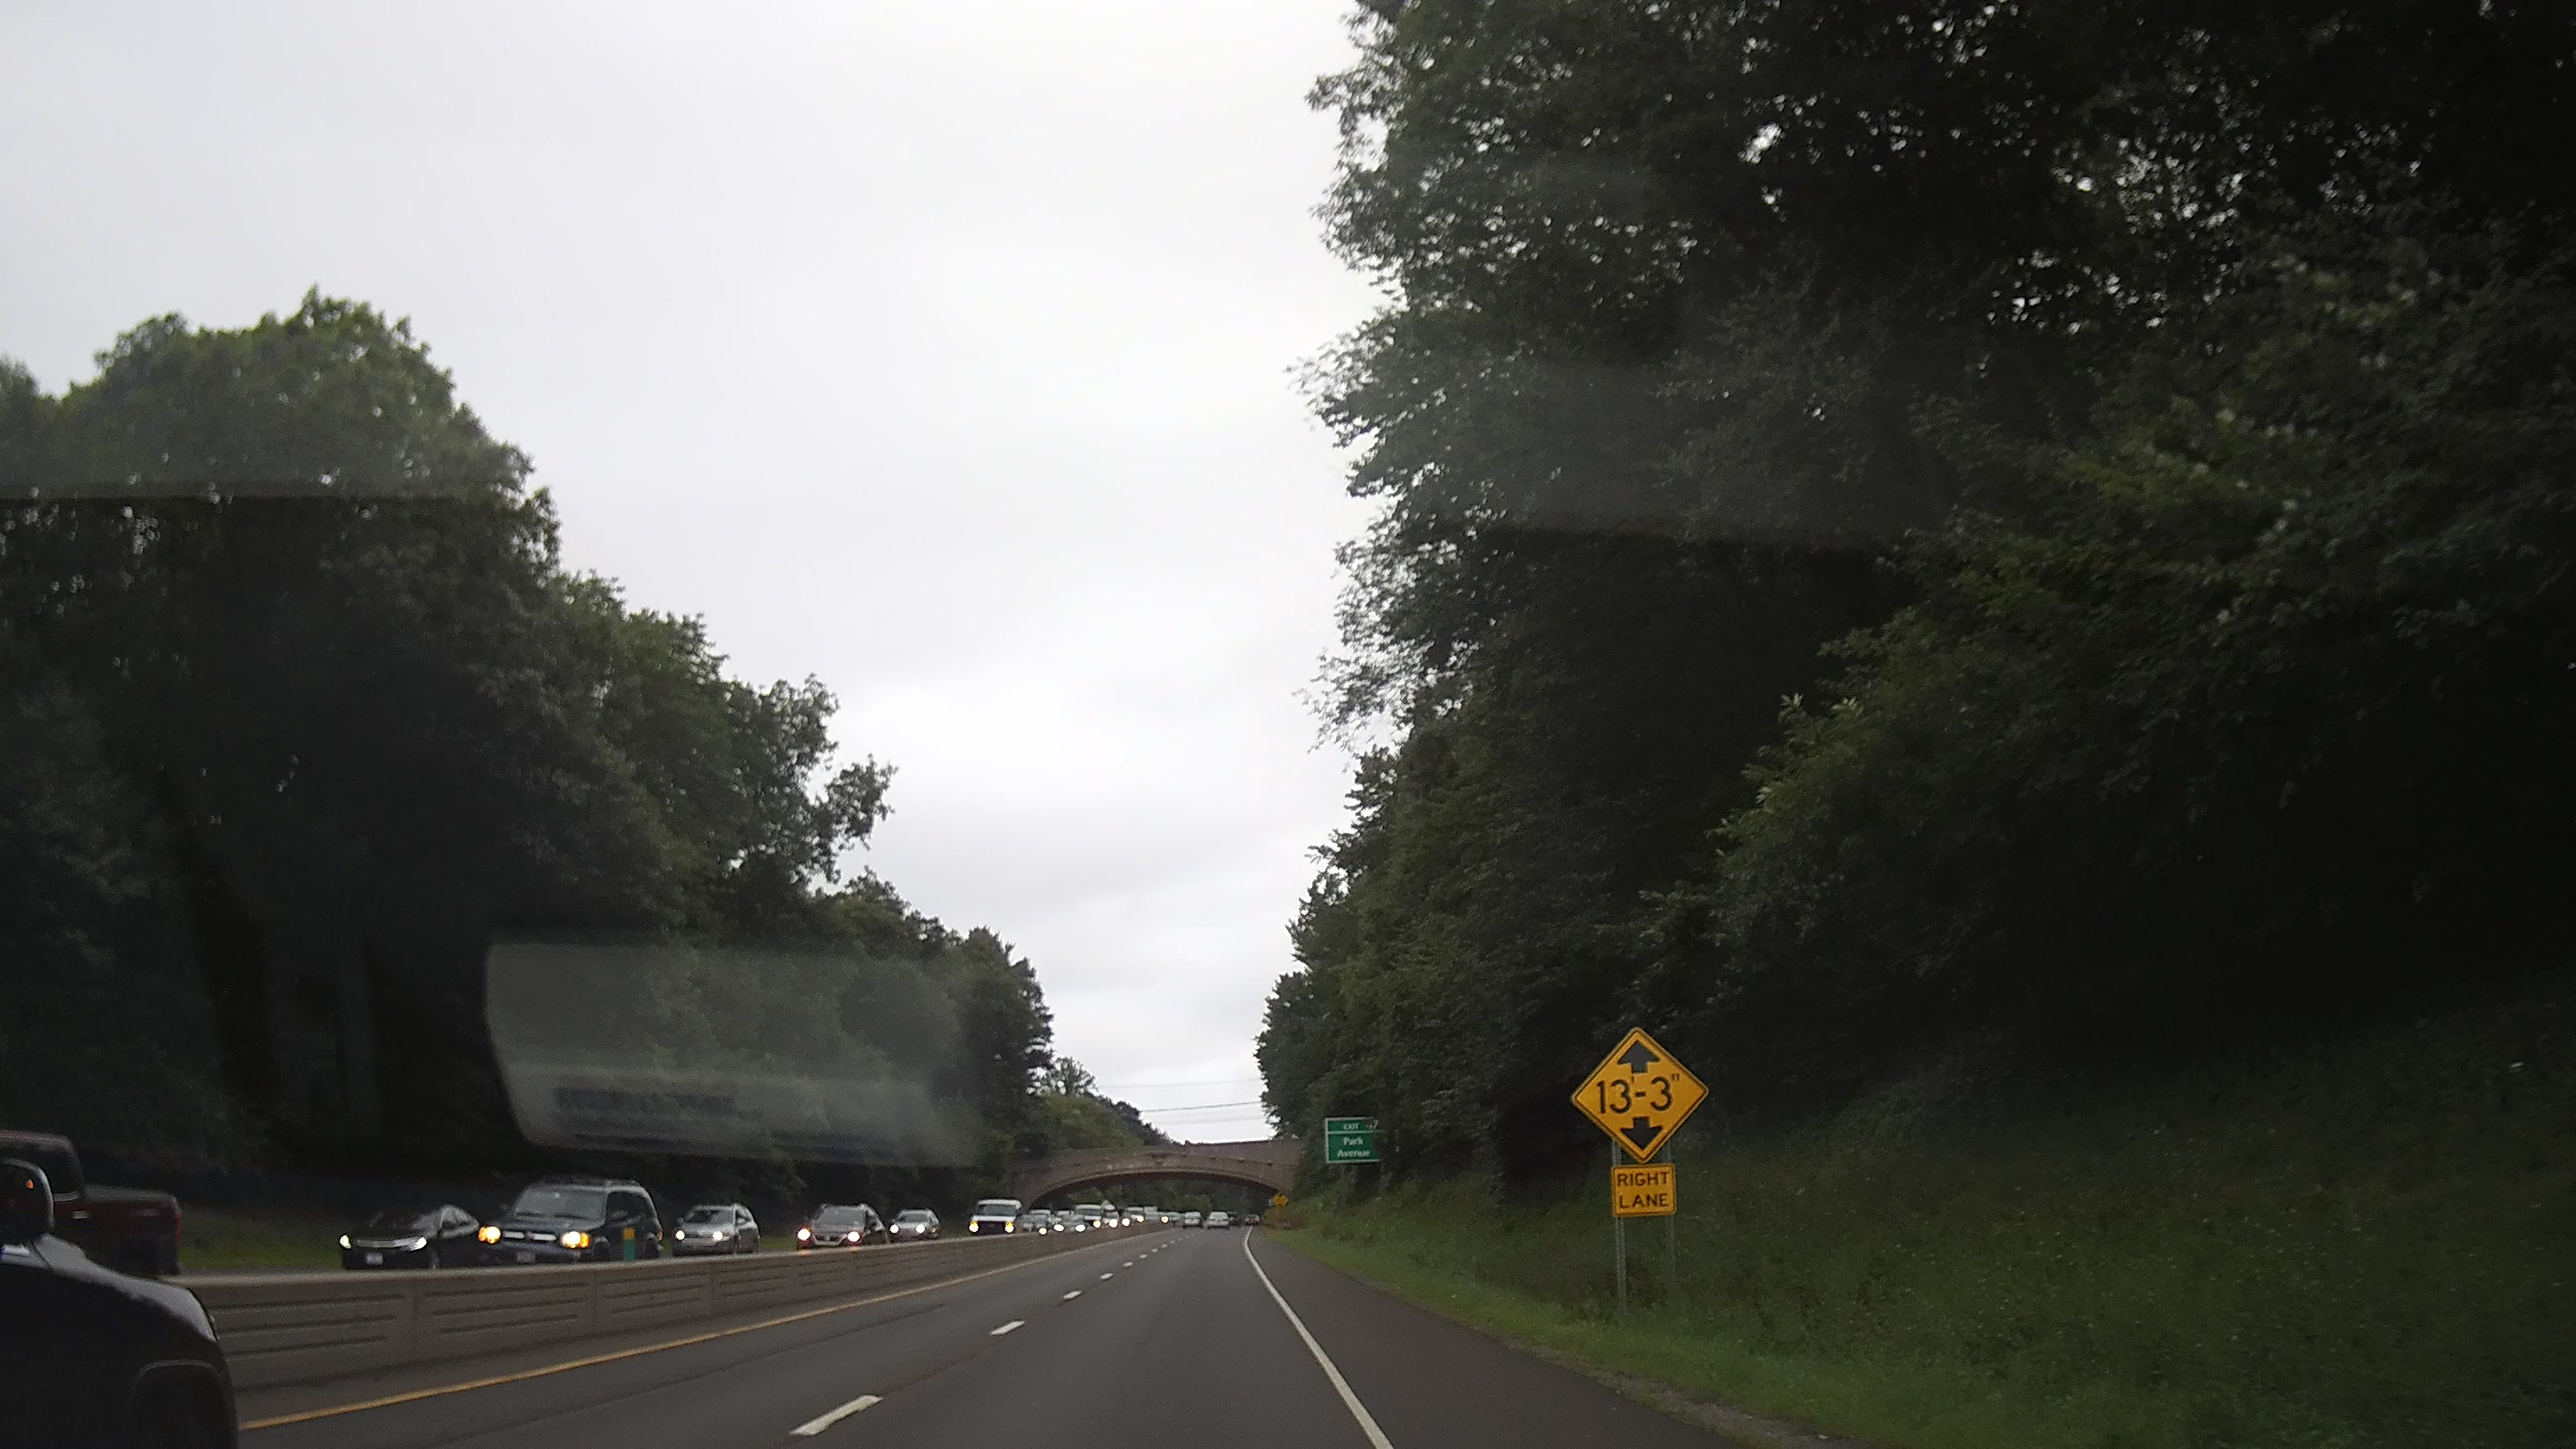low-clearance-sign: (1569, 1026, 1711, 1164)
